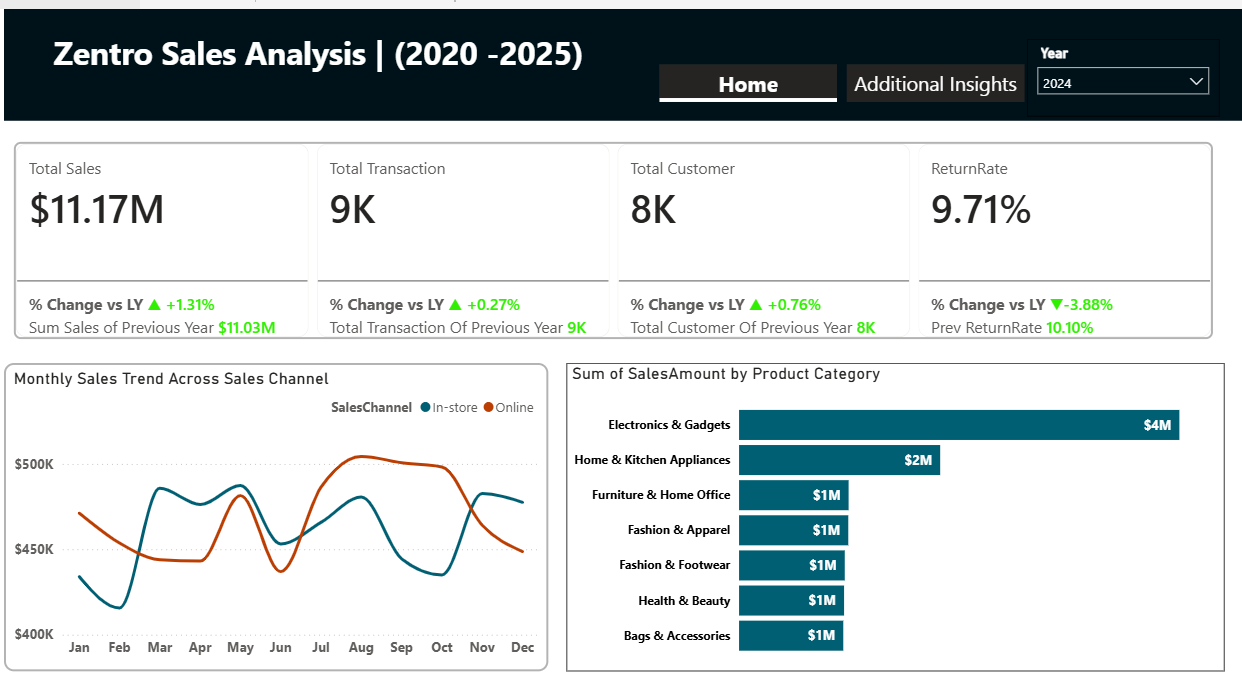

This screenshot's page, from the dashboard's own definition file:
{"tool":"powerbi","page":{"name":"Home","canvas":[1280,720],"ordinal":0},"visuals":[{"type":"shape","box":[21.7,0,1258.3,113.3],"z":0},{"type":"cardVisual","fields":{"Data":["_Measures.Total Sales","_Measures.Total Transaction","_Measures.Total Customer","_Measures.ReturnRate"]},"box":[21,124.7,1237.1,220.2],"z":1000},{"type":"slicer","fields":{"Values":["DateTable.Year"]},"box":[1058.3,30,195,78.3],"z":2000},{"type":"lineChart","title":"Monthly Sales Trend Across Sales Channel","fields":{"Y":["Sum(Zentro.SalesAmount)"],"Series":["Zentro.SalesChannel"],"Category":["DateTable.Month Name"]},"box":[21,359.5,552.2,312.5],"z":3000},{"type":"barChart","fields":{"Y":["Sum(Zentro.SalesAmount)"],"Category":["Zentro.Product Category"]},"box":[591,359.5,667.1,312.5],"z":4000},{"type":"pageNavigator","box":[686.7,56.7,371.7,38.3],"z":5000},{"type":"textbox","box":[41.7,16.7,598.3,78.3],"z":6000}]}

Visuals, with their boxes in screenshot pixels (x1, y1, x2, y2), scaled from the page's 1280x720 canvas onto the 1242x694 screenshot:
shape: [21, 0, 1241, 109]
cardVisual - _Measures.Total Sales x _Measures.Total Transaction: [20, 120, 1221, 332]
slicer - DateTable.Year: [1027, 29, 1216, 104]
"Monthly Sales Trend Across Sales Channel" lineChart: [20, 347, 556, 648]
barChart - Sum(Zentro.SalesAmount) x Zentro.Product Category: [573, 347, 1221, 648]
pageNavigator: [666, 55, 1027, 92]
textbox: [40, 16, 621, 92]
